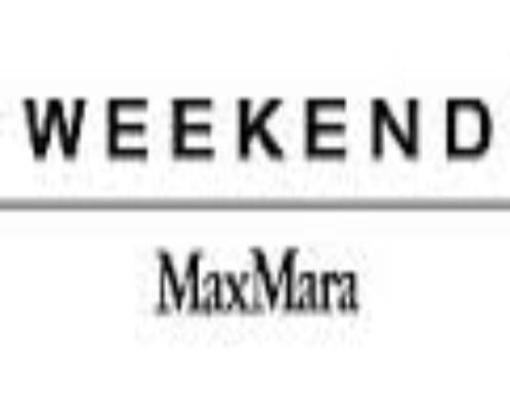MAX-MARA: (149, 237, 364, 321)
